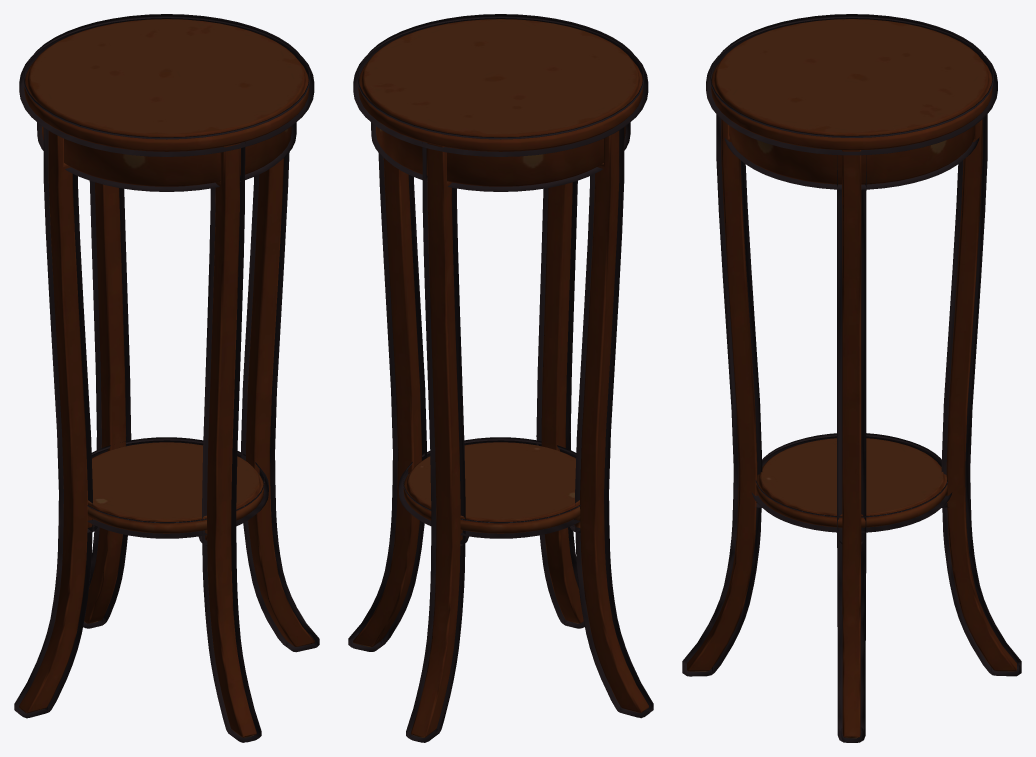
File: SM_Int_TallSideTable.fbx
3 renders of one model, left to right at view 1: azimuth 30°, elevation 25°; view 2: azimuth 150°, elevation 25°; view 3: azimuth 270°, elevation 25°, orthographic.
Parts seen in each view (by area): view 1: SM_Int_TallSideTable; view 2: SM_Int_TallSideTable; view 3: SM_Int_TallSideTable.
Boxes of the visible parts, left/top/right/bottom form: SM_Int_TallSideTable: left=14, top=14, right=319, bottom=742; SM_Int_TallSideTable: left=348, top=14, right=653, bottom=742; SM_Int_TallSideTable: left=682, top=14, right=1021, bottom=742.
Size of what is drawn, in the model's own units: 0.3946 by 0.772 by 0.3946.
